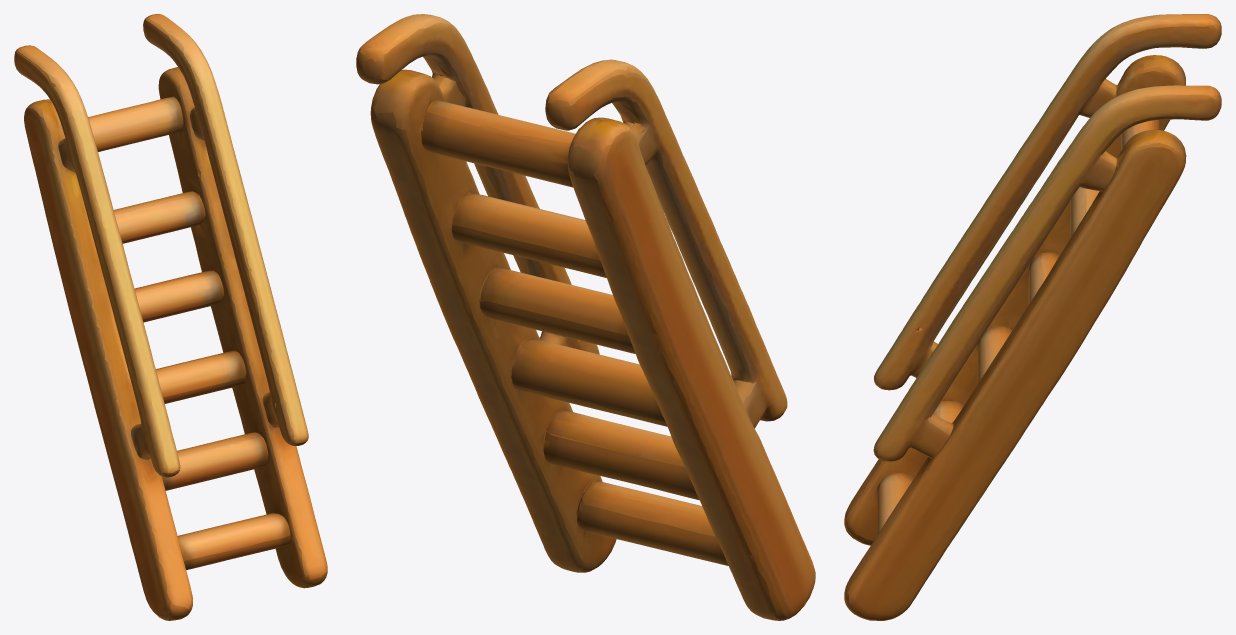
Rendered from x-ladder.glb.
The picture shows the model from 3 angles, left to right: view 1: azimuth 30°, elevation 25°; view 2: azimuth 150°, elevation 25°; view 3: azimuth 270°, elevation 25°; orthographic projection. The views are drawn at different scales.
Parts seen in each view (by area): view 1: geometry_0; view 2: geometry_0; view 3: geometry_0.
Boxes of the visible parts, bbox=[...] form: geometry_0: bbox=[14, 14, 327, 620]; geometry_0: bbox=[356, 14, 815, 620]; geometry_0: bbox=[844, 14, 1221, 620].
Size of the model in its own units: 1.8 by 4.95 by 3.2.
Materials: 1 (1 with a texture image).
